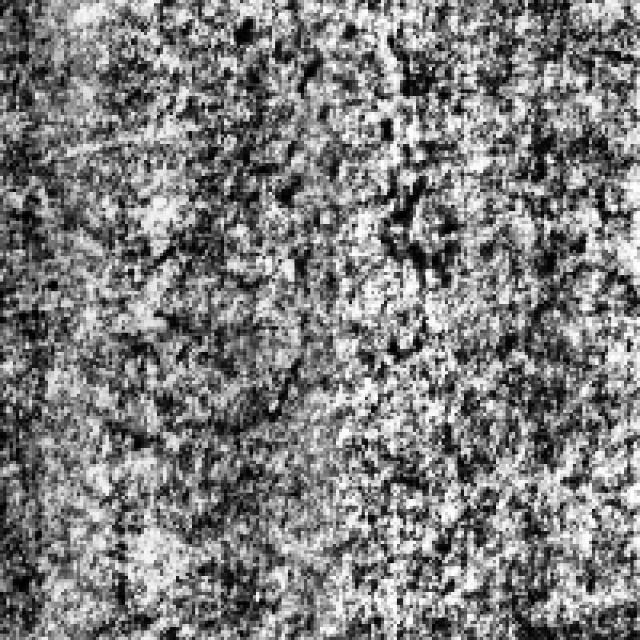Pitted_Surface: (291, 13, 429, 368)
